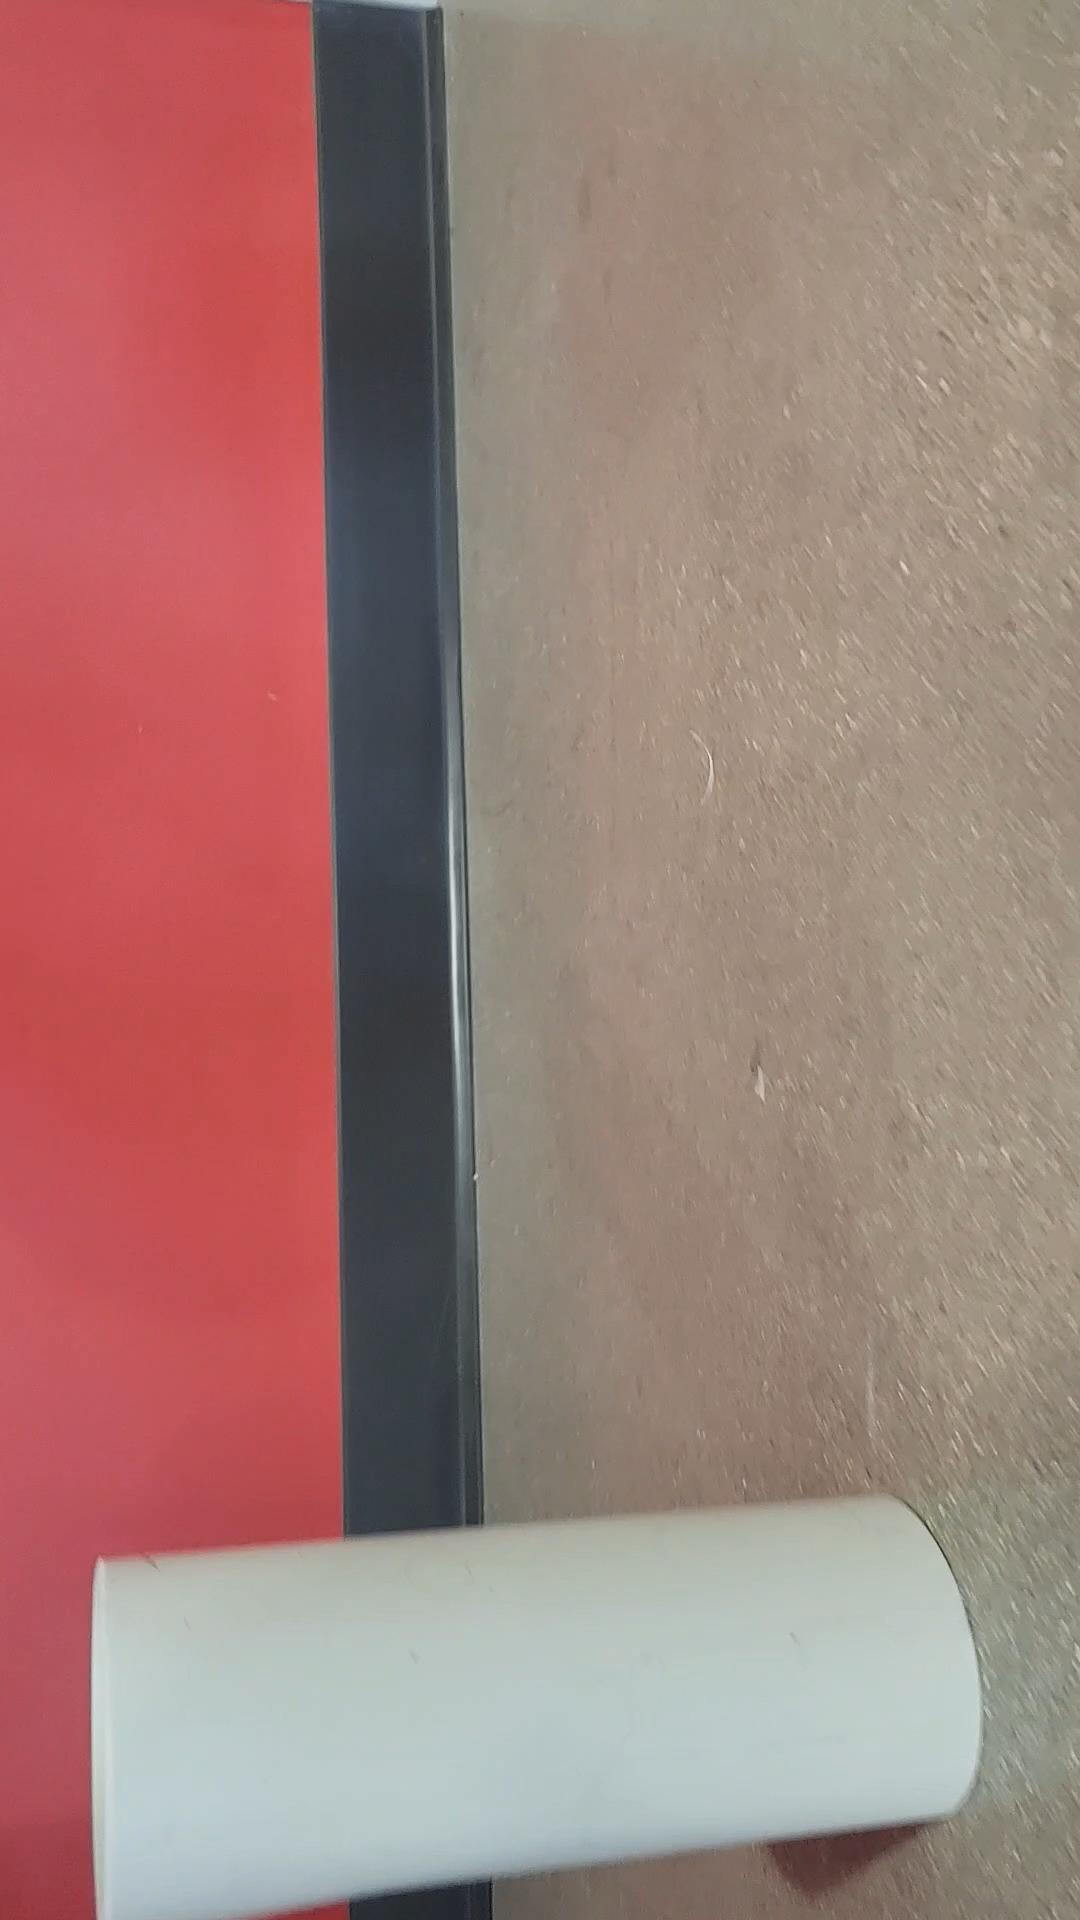coral: (76, 1493, 990, 1920)
